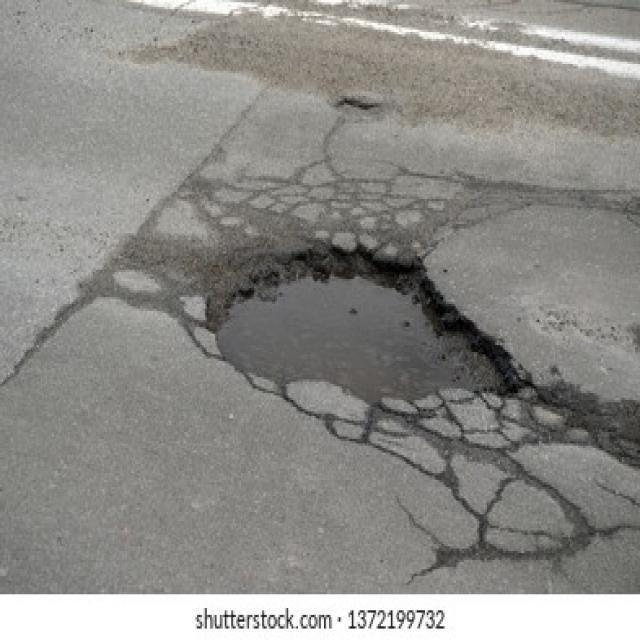Buraco: (197, 235, 550, 413), (328, 92, 388, 120)
